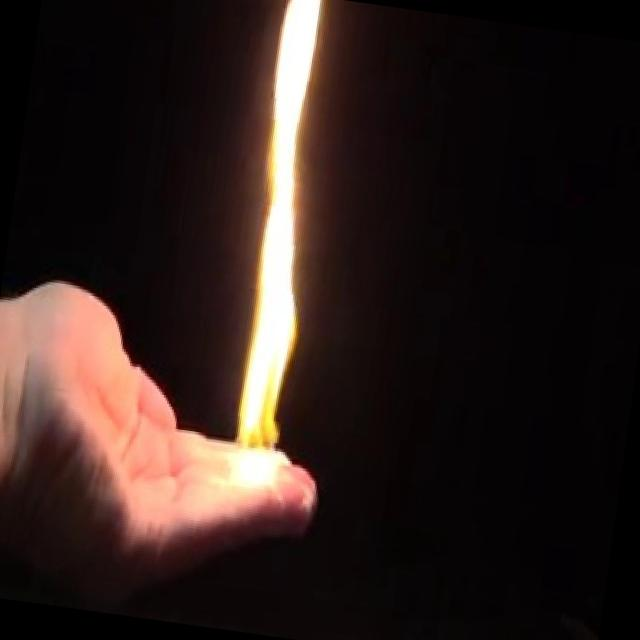Fire: (203, 0, 354, 501)
